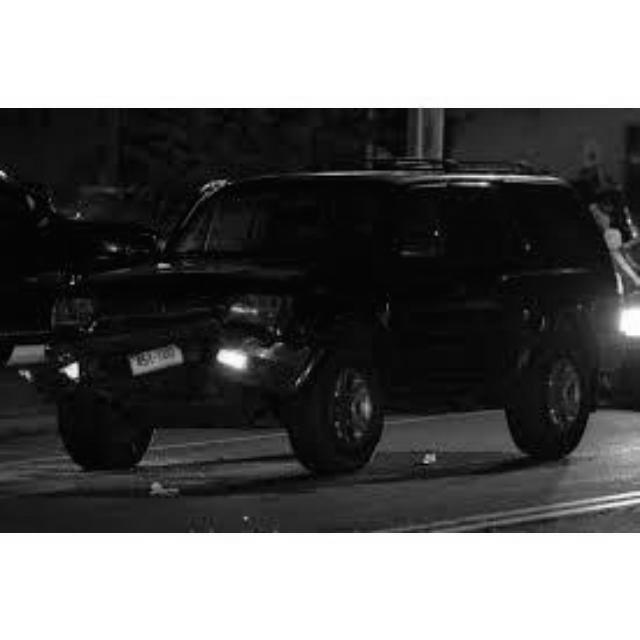front-bumper-dent: (107, 327, 225, 396)
